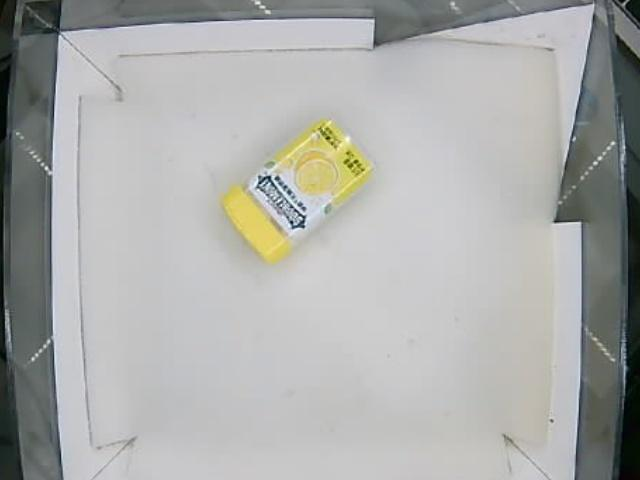Bottle: (223, 115, 376, 264)
